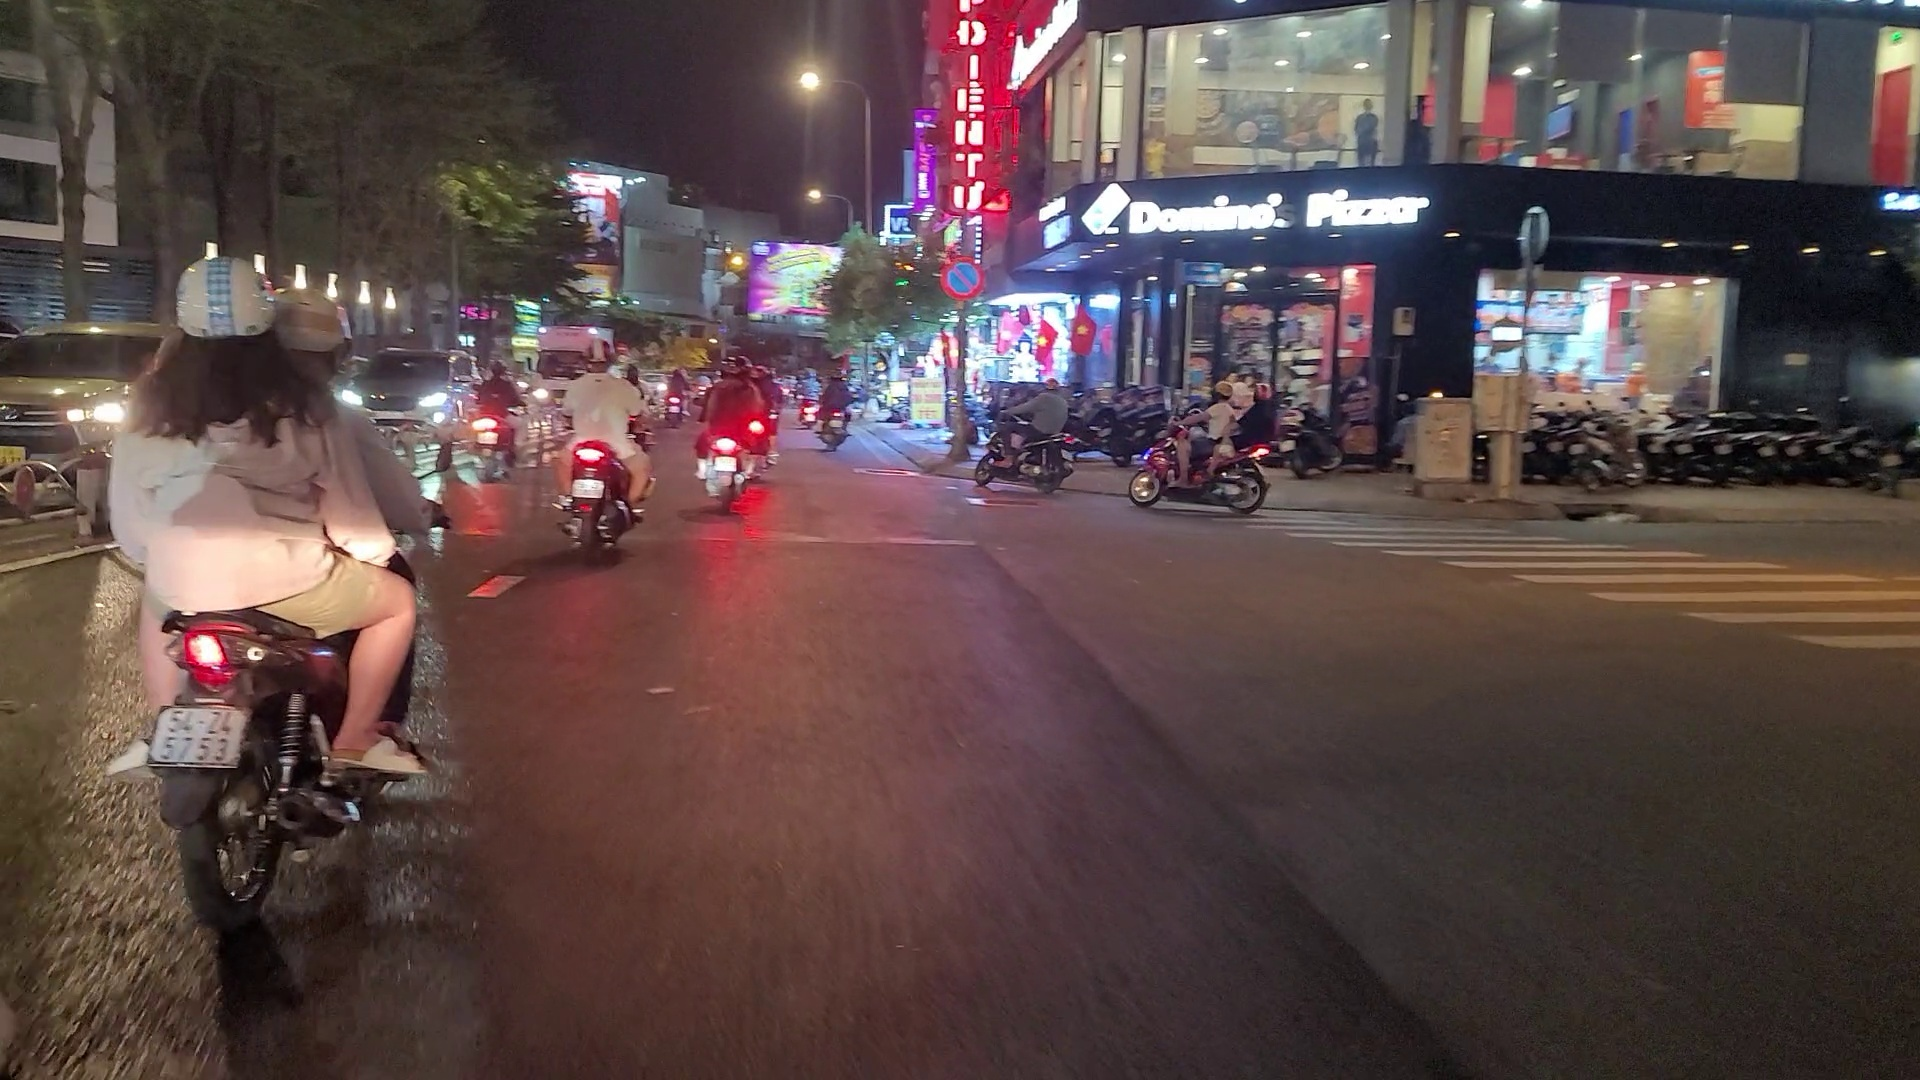Cam do xe: (942, 252, 982, 301)
